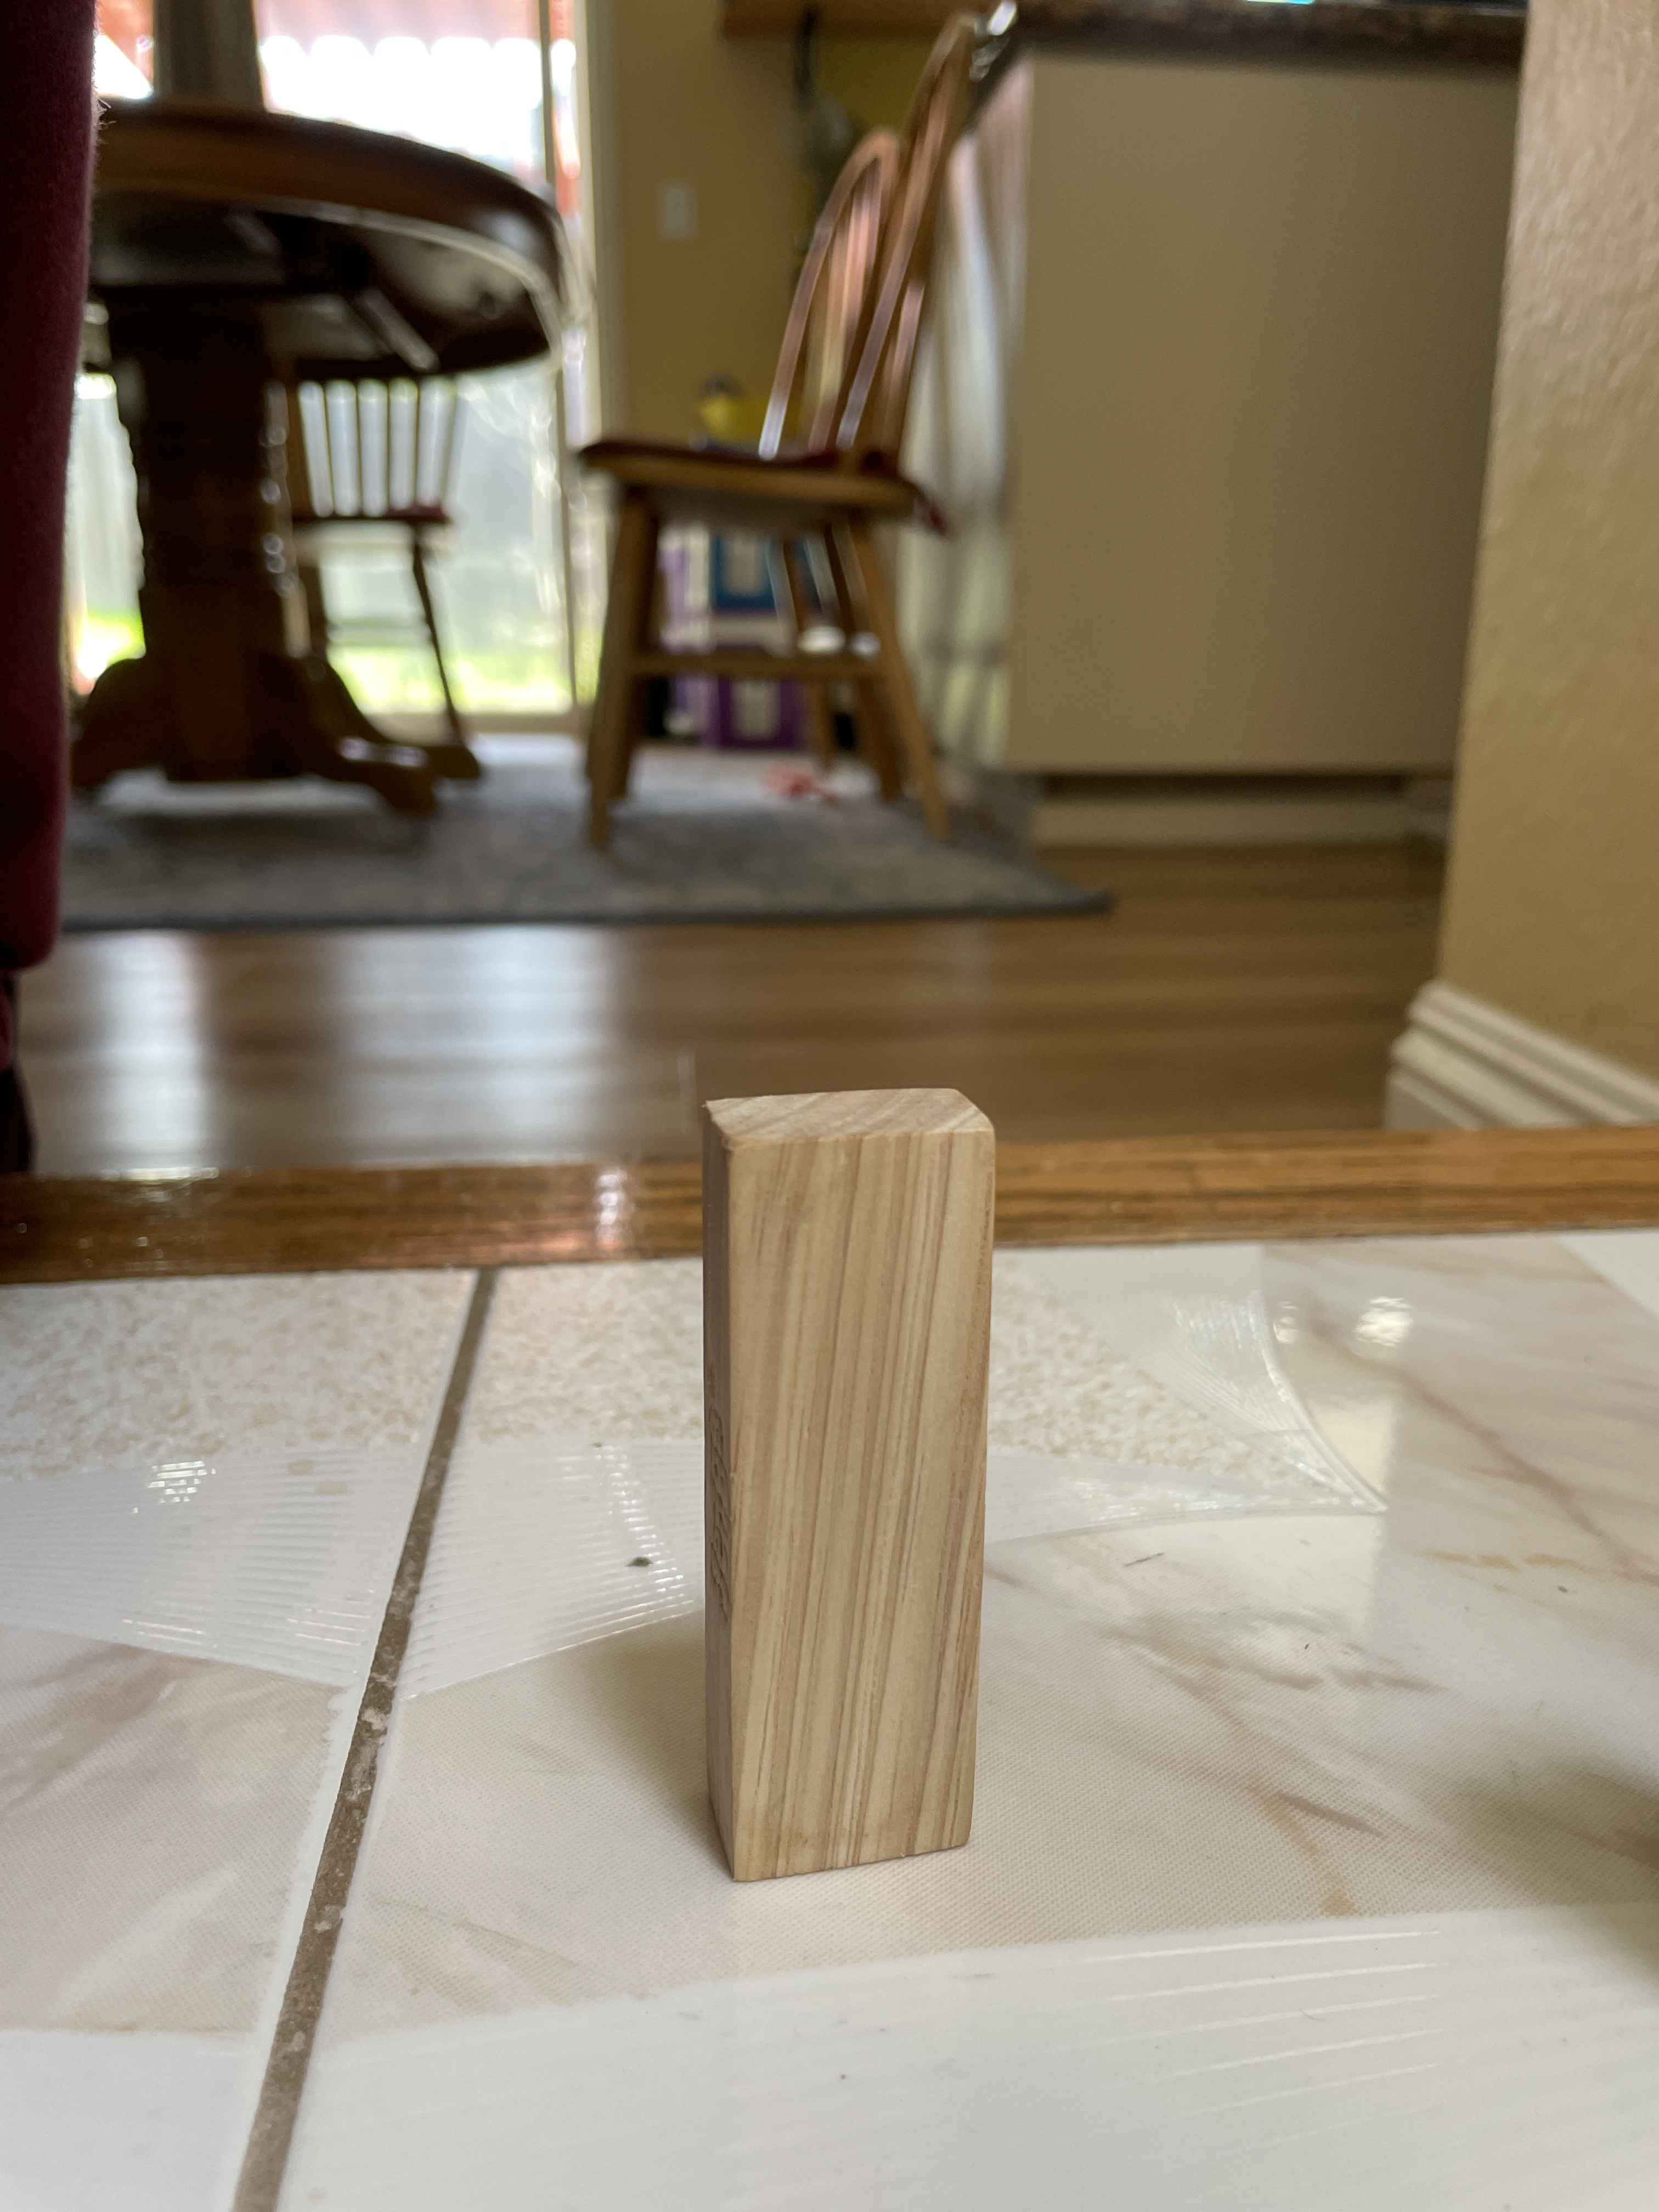jenga: (687, 1071, 1011, 1898)
